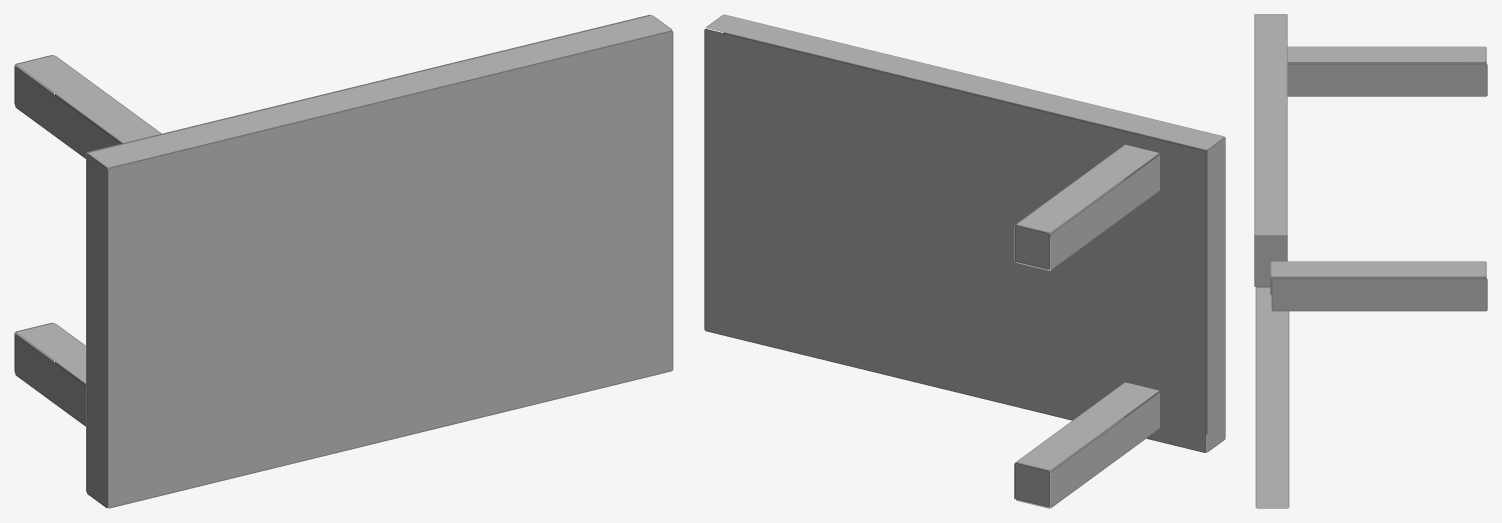
Rendered from pz_benche_seating_indoor_02_long_wooden_0_0.obj.
3 renders of one model, left to right at view 1: azimuth 30°, elevation 25°; view 2: azimuth 150°, elevation 25°; view 3: azimuth 270°, elevation 25°, orthographic. The views are drawn at different scales.
Size of the model in its own units: 0.975 by 0.56 by 0.4338.
1 material, 1 textured.
